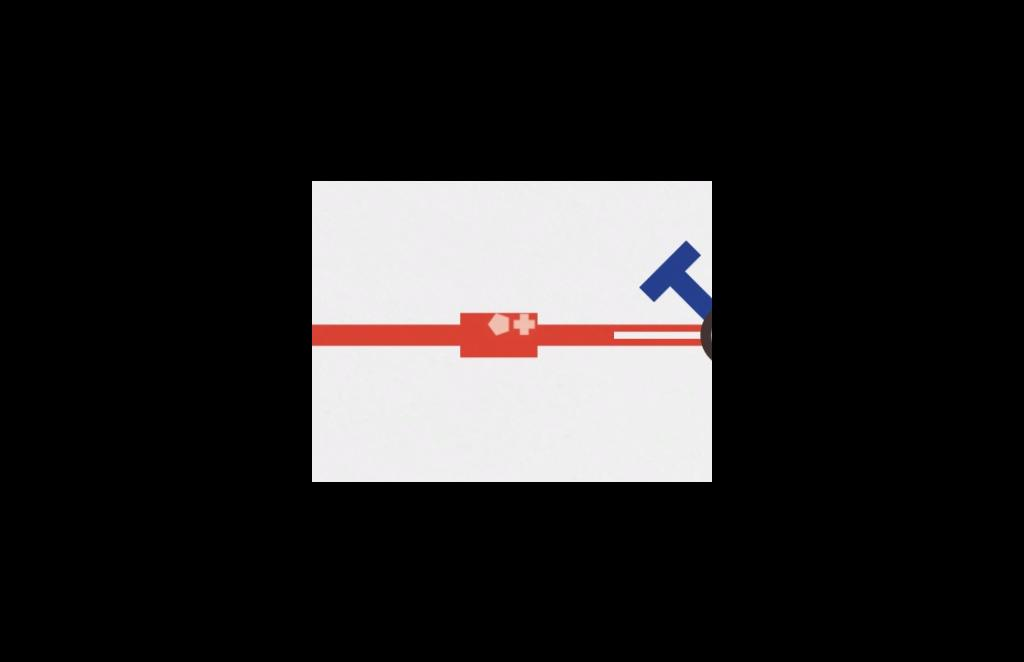connected_station: (693, 296, 712, 373)
line_endpoint: (635, 232, 712, 304)
train: (448, 306, 544, 363)
